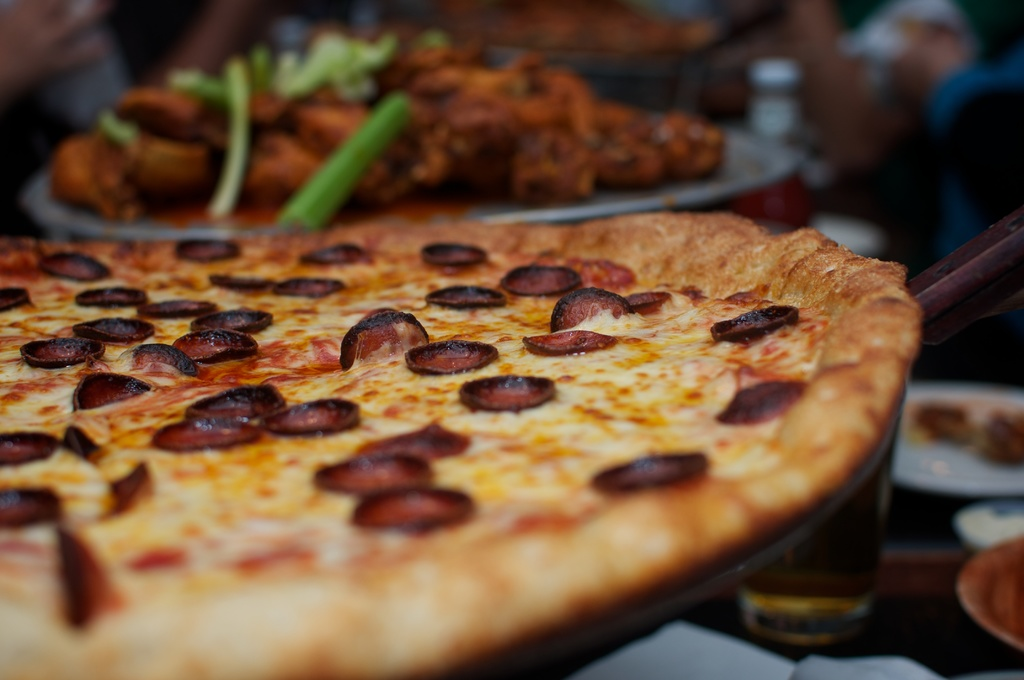Pizza: (0, 180, 955, 674)
